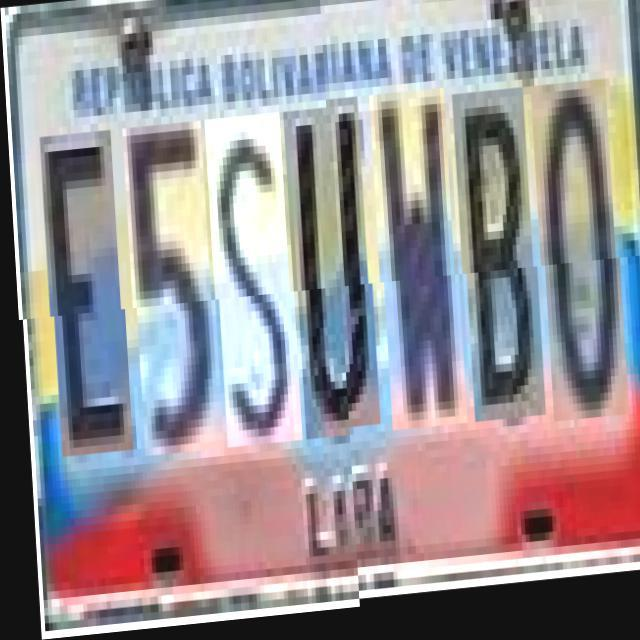5: (124, 124, 218, 458)
B: (454, 106, 540, 440)
E: (42, 132, 127, 458)
O: (533, 99, 623, 441)
S: (206, 118, 296, 452)
U: (285, 112, 375, 446)
W: (372, 104, 462, 447)
